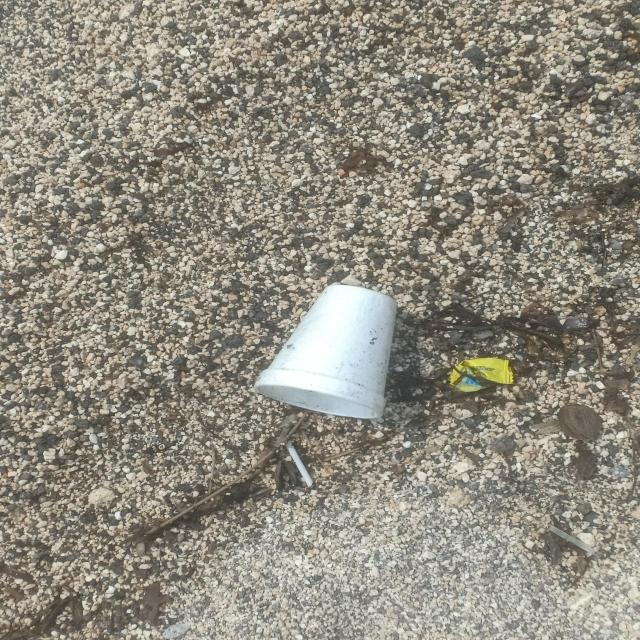plastic_waste: (445, 356, 515, 394)
styrofoam_waste: (259, 280, 401, 417)
